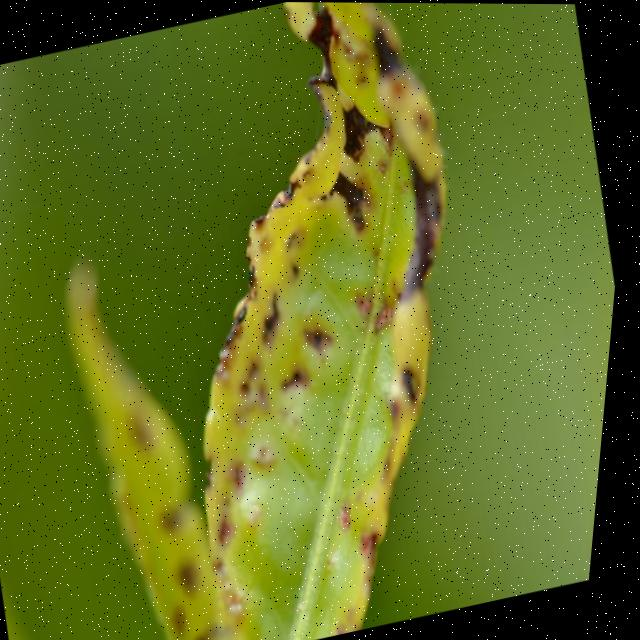Tea red scab: (141, 65, 521, 589)
